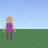person: (3, 16, 15, 39)
